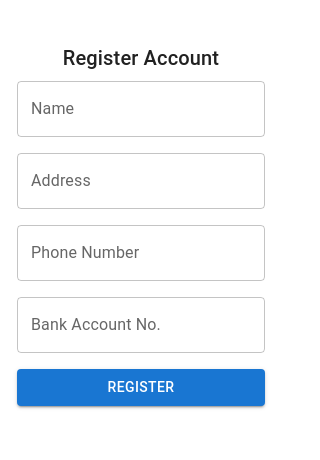
Test case: <AccountsWrite /> › shows validation errors when required fields are empty
What coordinates should you click on to do the following:
click the button "Register"
I would click on:
 (141, 388)
Its box is [17, 369, 265, 406].
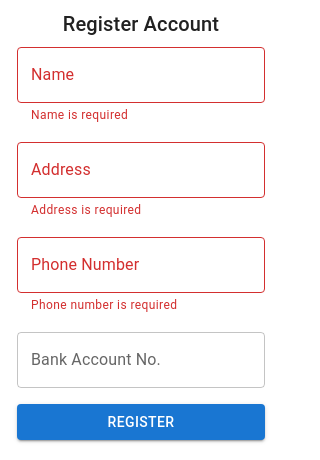
Expected: the text "Name is required" is shown, [31, 108, 128, 122]
Expected: the text "Address is required" is shown, [31, 203, 142, 217]
Expected: the text "Phone number is required" is shown, [31, 298, 177, 312]
